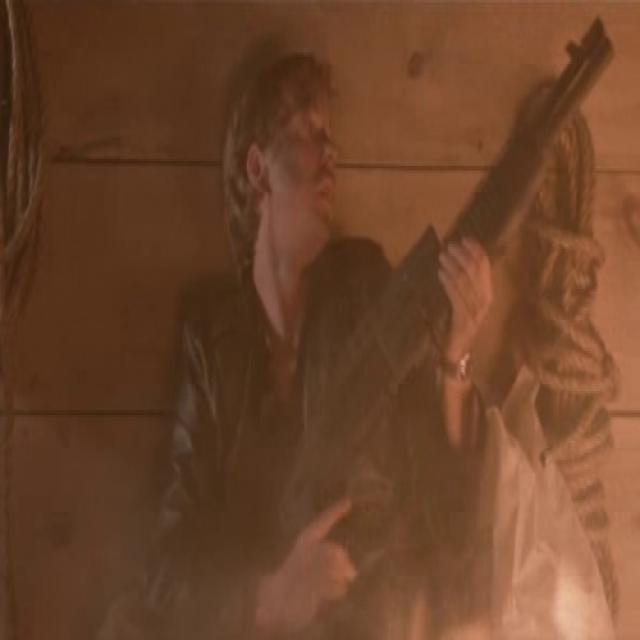rifle: (272, 5, 619, 539)
